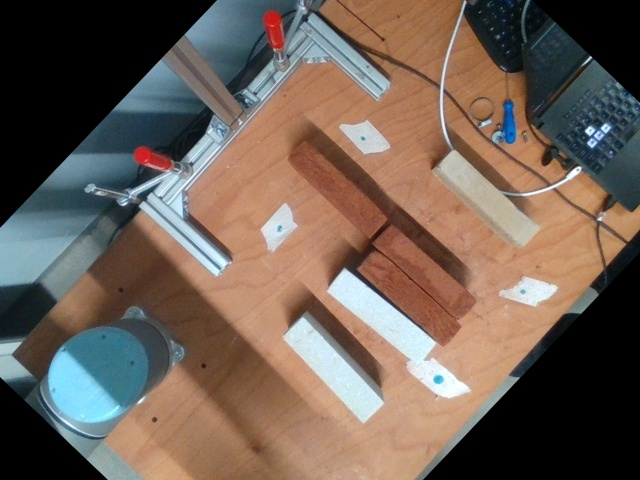brick-side: (283, 317, 385, 421), (373, 222, 477, 323), (285, 139, 389, 240), (436, 148, 540, 249), (328, 269, 436, 364), (358, 248, 461, 347)
